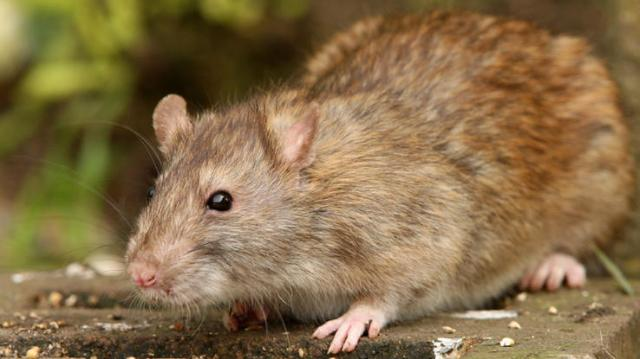rat: (113, 64, 413, 358)
